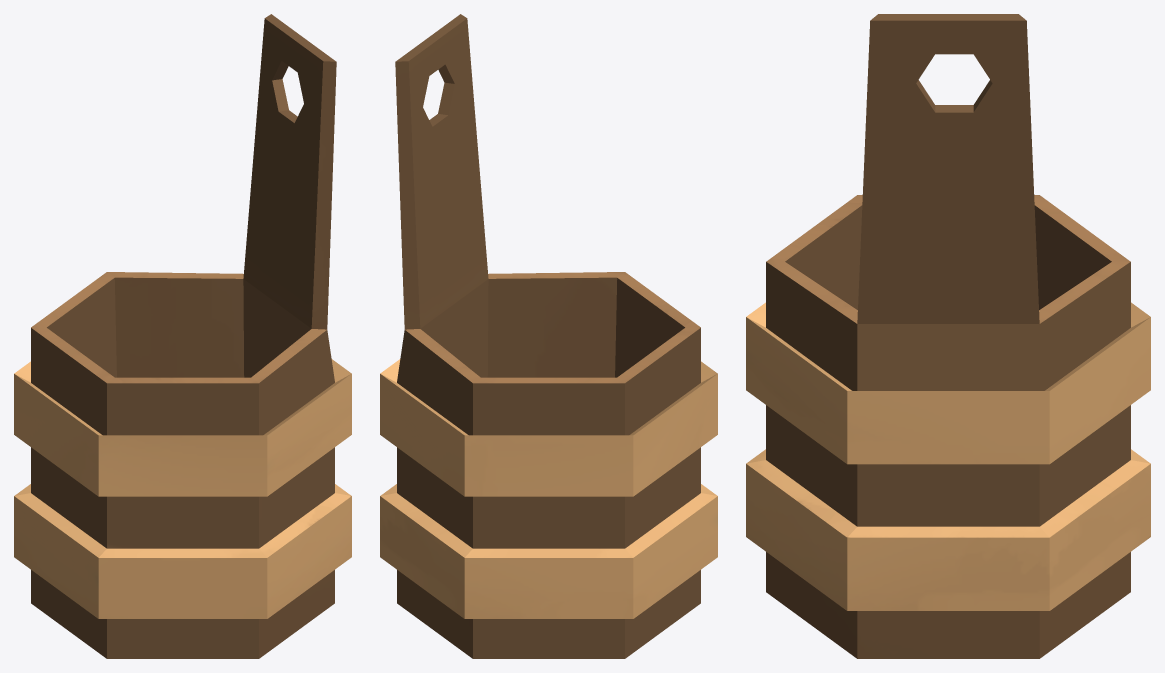
File: kirnu.fbx
3 views of the same model, side by side, from view 1: azimuth 30°, elevation 25°; view 2: azimuth 150°, elevation 25°; view 3: azimuth 270°, elevation 25° (orthographic). The views are drawn at different scales.
Visible parts, largest first — view 1: KIRNU; view 2: KIRNU; view 3: KIRNU.
Boxes of the visible parts, x1,y1,x2,y2 form: KIRNU: (14,14,351,658); KIRNU: (380,14,717,658); KIRNU: (746,14,1150,658).
Bounding box in the file's own units: 26.76 × 54.17 × 30.9.
1 material, 1 textured.
